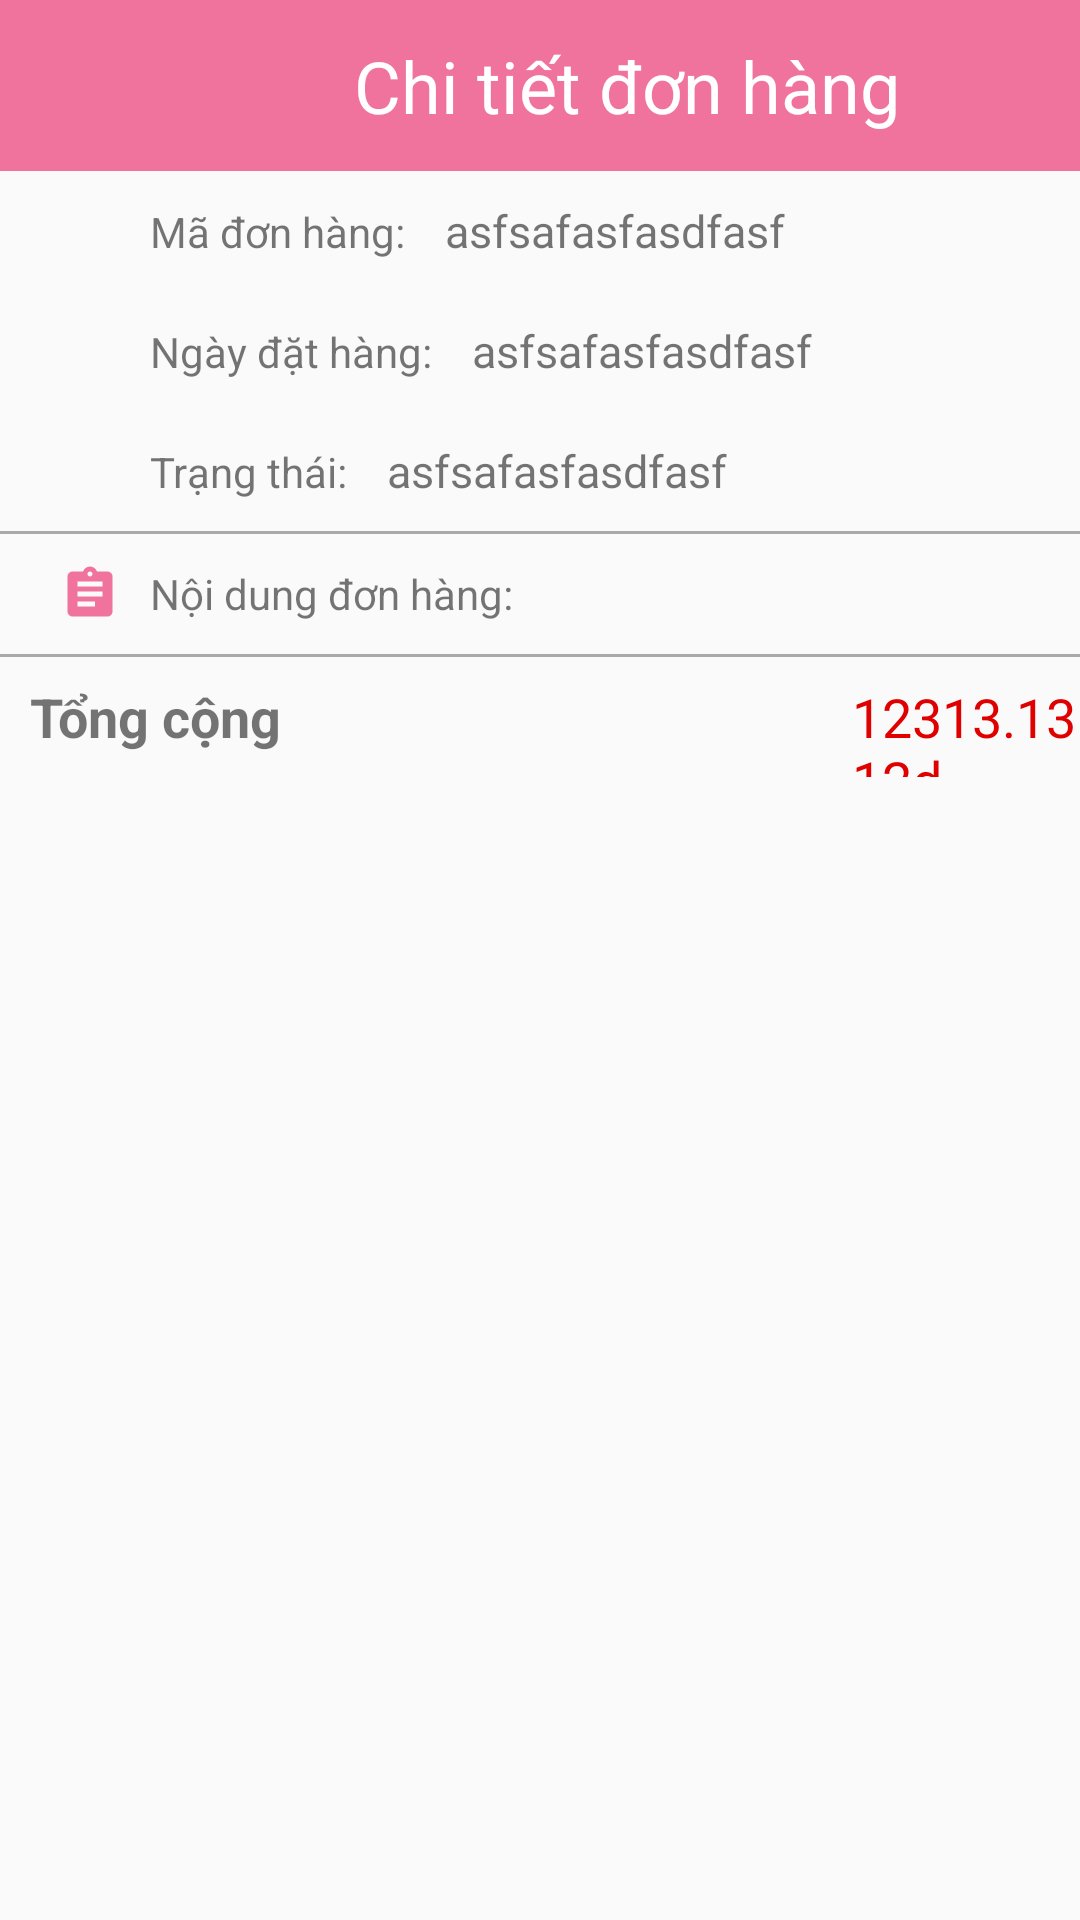

Named icons in this screenshot (1080×1920) and their bounding boxes, [x1,y1,x2,y2]:
assignment: [67,566,113,617]
